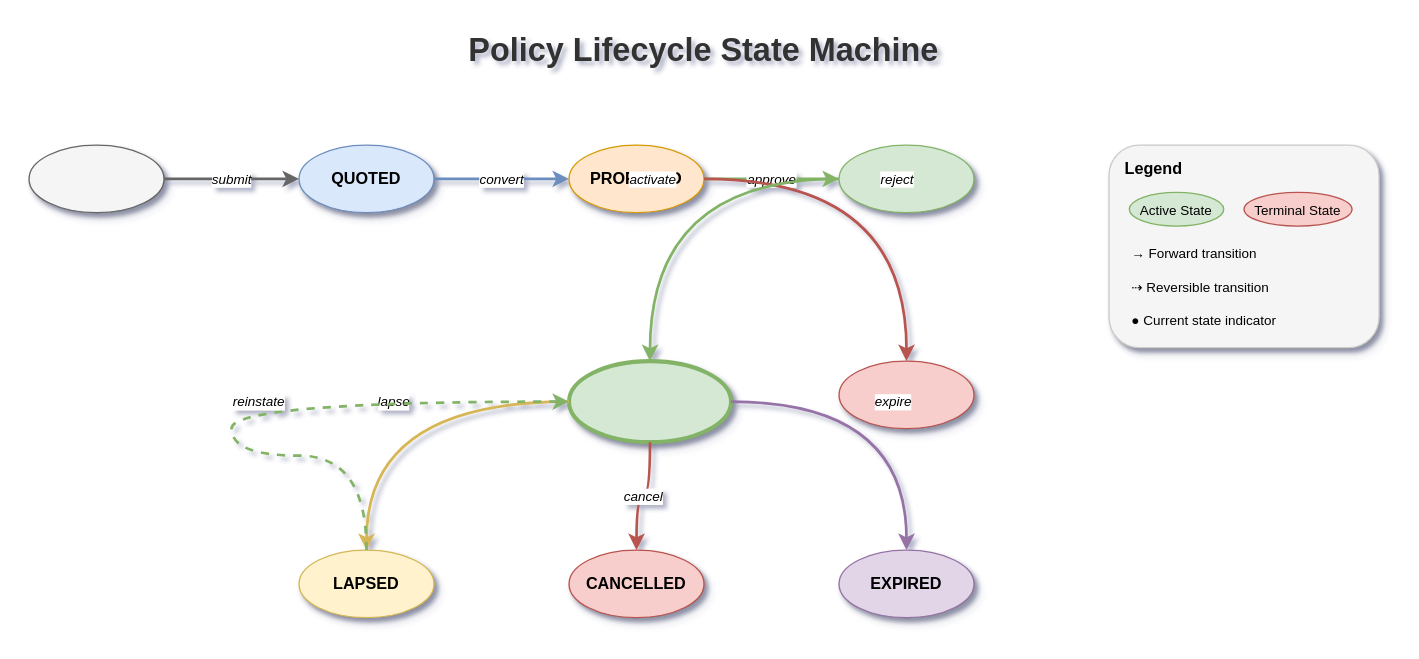
Image size: 1419x659. Some labels were removed from this diagram. The shapes that lost their labels are listed below. From the top down, each one's centre as x and y in pixels, then its label:
At pixel 97 180: "DRAFT".
At pixel 907 180: "ISSUED".
At pixel 650 403: "ACTIVE".
At pixel 907 396: "DECLINED".
